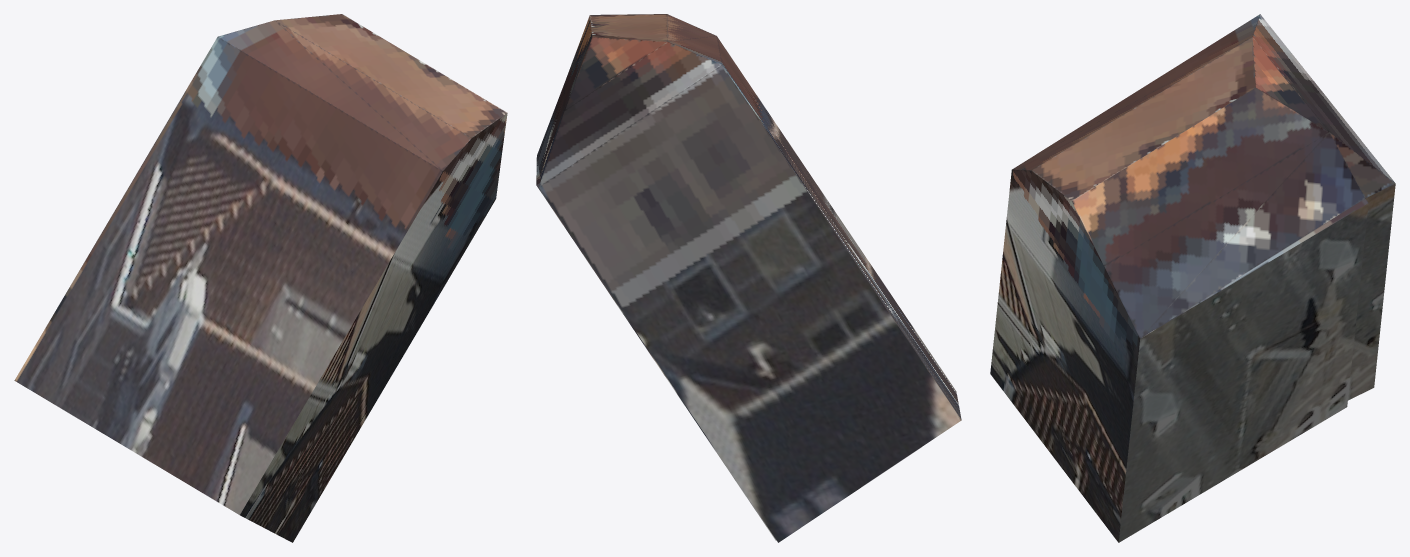
3 renders of one model, left to right at view 1: azimuth 30°, elevation 25°; view 2: azimuth 150°, elevation 25°; view 3: azimuth 270°, elevation 25°, orthographic. The views are drawn at different scales.
Visible parts, largest first — view 1: BAG_0599100000760361 (×3); view 2: BAG_0599100000760361 (×4); view 3: BAG_0599100000760361 (×4).
Part boxes in pixels (x1,y1,x2,y2): BAG_0599100000760361 (×3): (14, 14, 507, 542); BAG_0599100000760361 (×4): (536, 14, 961, 542); BAG_0599100000760361 (×4): (990, 14, 1395, 542).
Size of the model in its own units: 12.36 by 12.65 by 8.79.
1 material, 1 textured.
